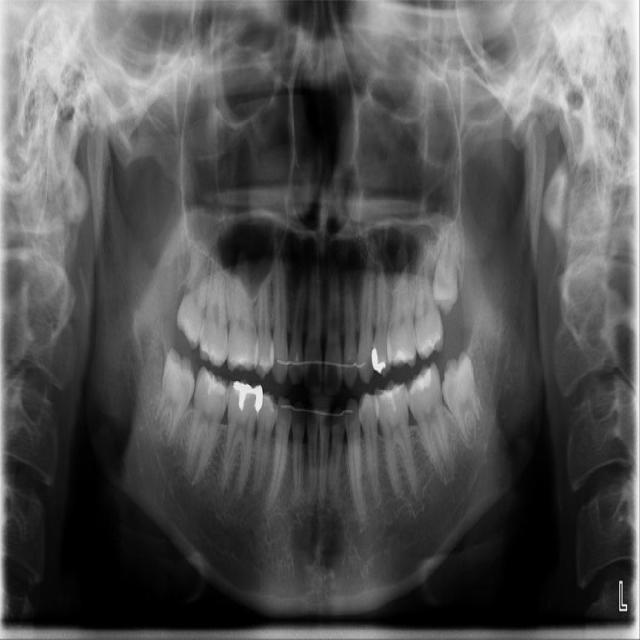Filling: (232, 381, 263, 412), (380, 383, 404, 411), (204, 371, 227, 397), (409, 369, 431, 394), (371, 345, 386, 373), (392, 351, 412, 362)
Periapical lesion: (163, 445, 185, 477)
impacted tooth: (150, 351, 194, 446), (443, 355, 482, 443), (433, 228, 458, 306)
